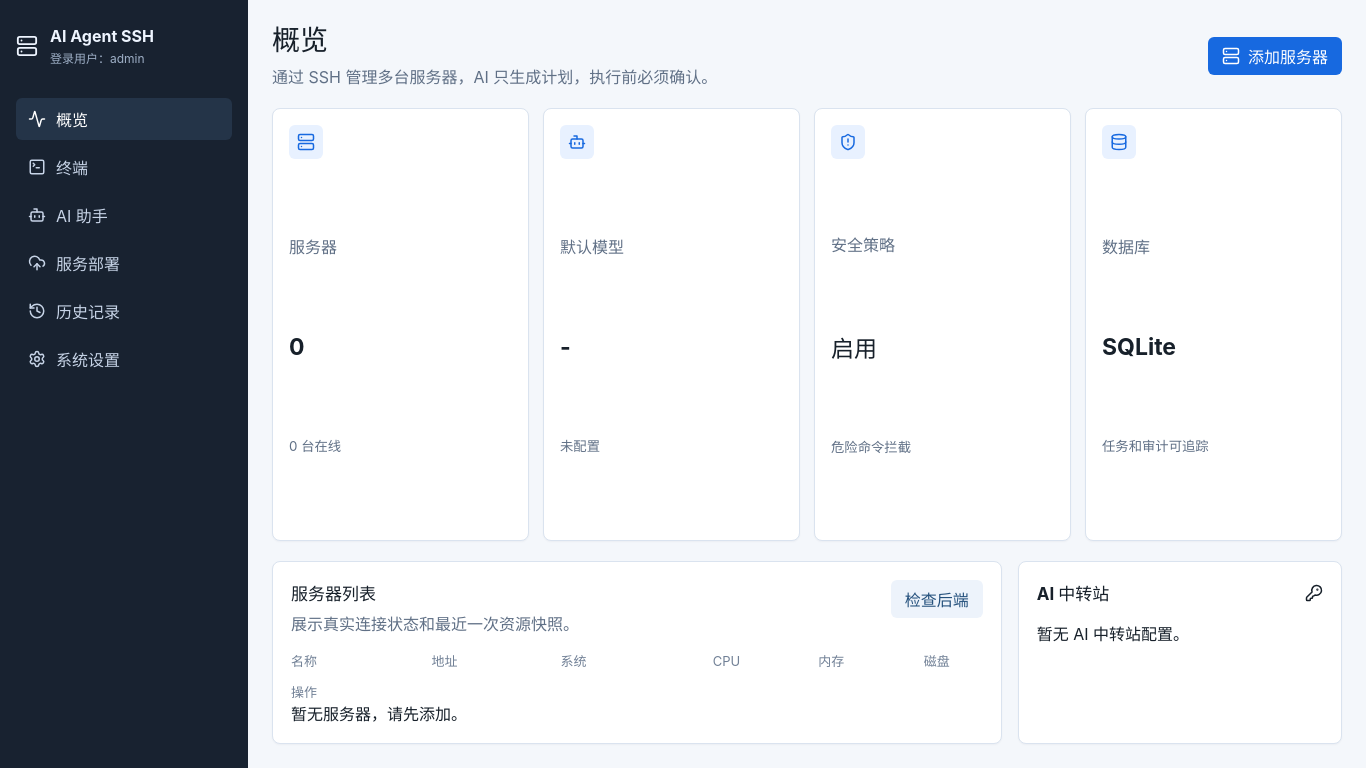
it: App interactions › creates an AI provider through the API
This screenshot has width=1366, height=768.
Click the button "系统设置". click: (124, 359)
box: 16,338 -> 232,380
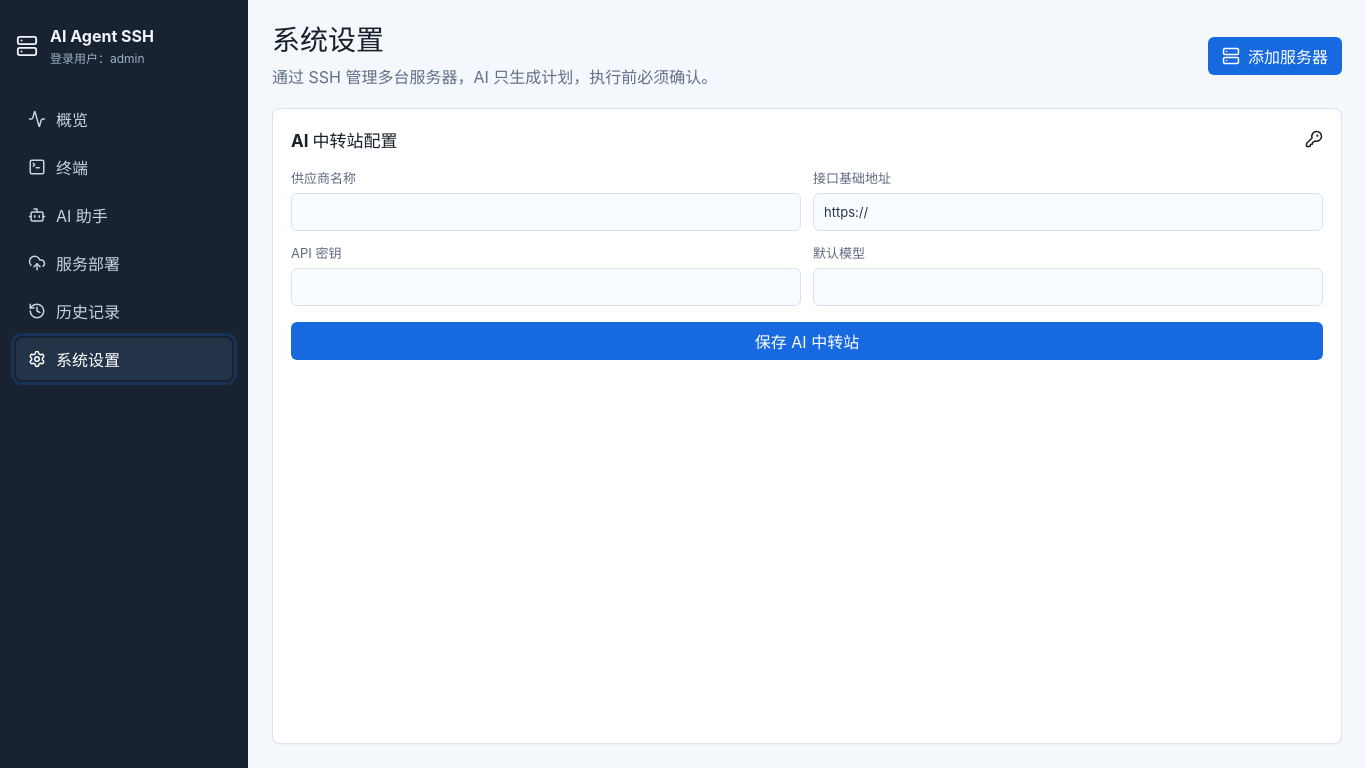
Type "Relay" into the field labelled "供应商名称". click: (546, 212)
box: 291,193 -> 801,231
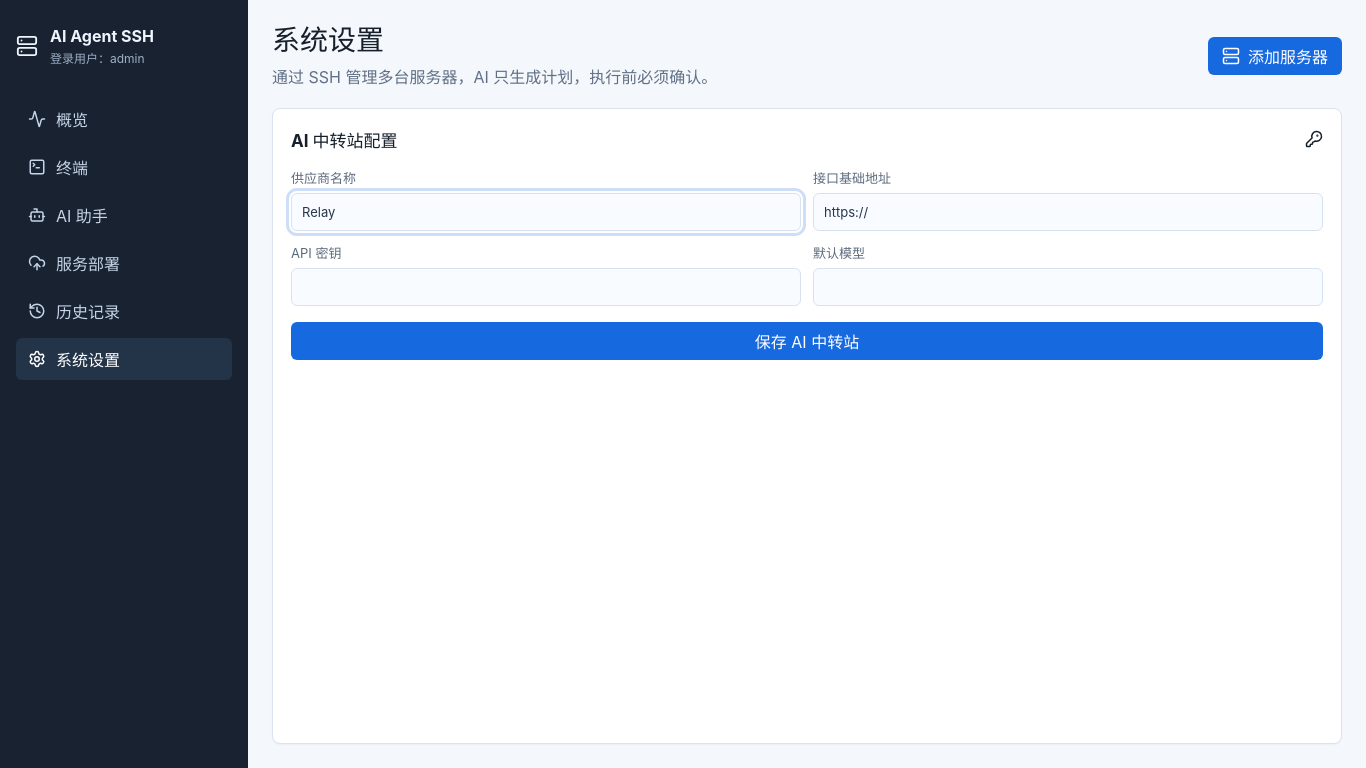
Replace the text in the field labelled "接口基础地址" with "https://relay.example/v1". click: (1068, 212)
box: 813,193 -> 1323,231
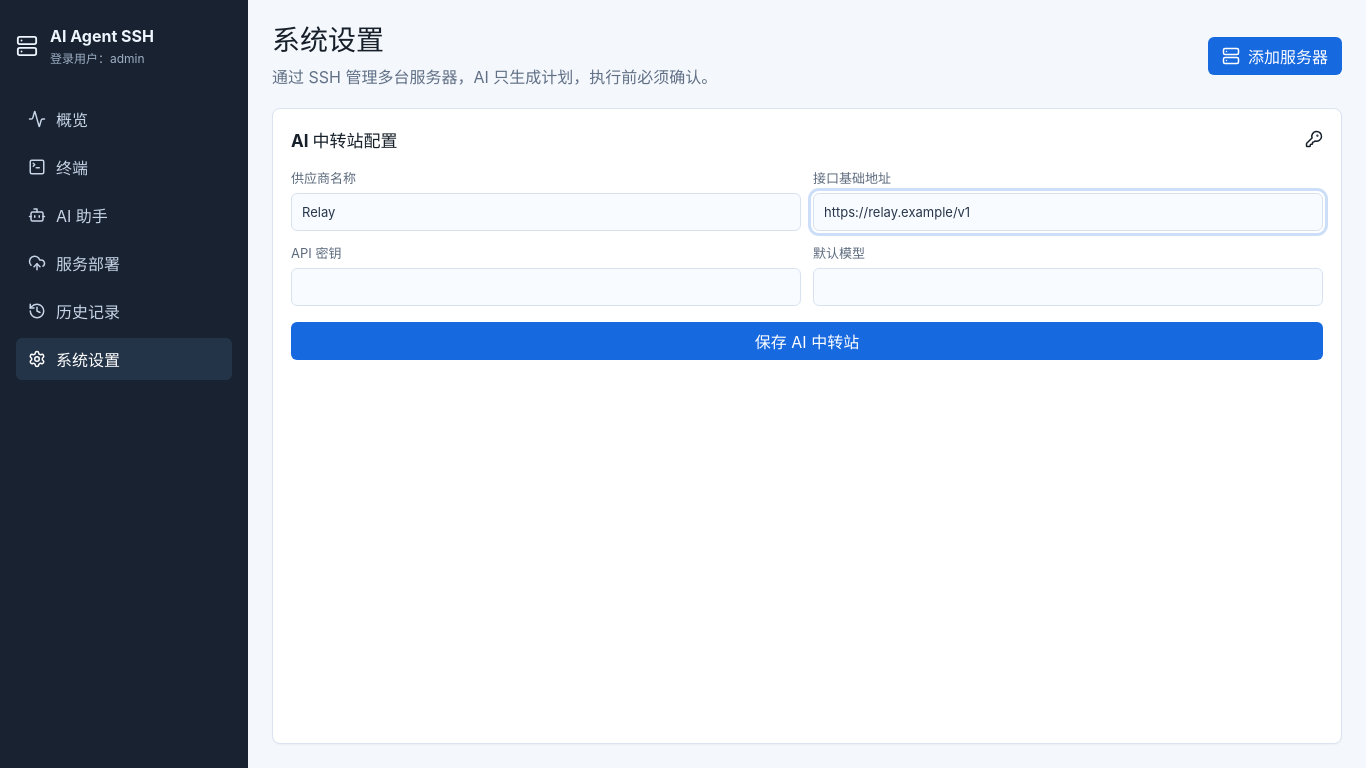
Type "sk-test" into the password field labelled "API 密钥". click: (546, 287)
box: 291,268 -> 801,306
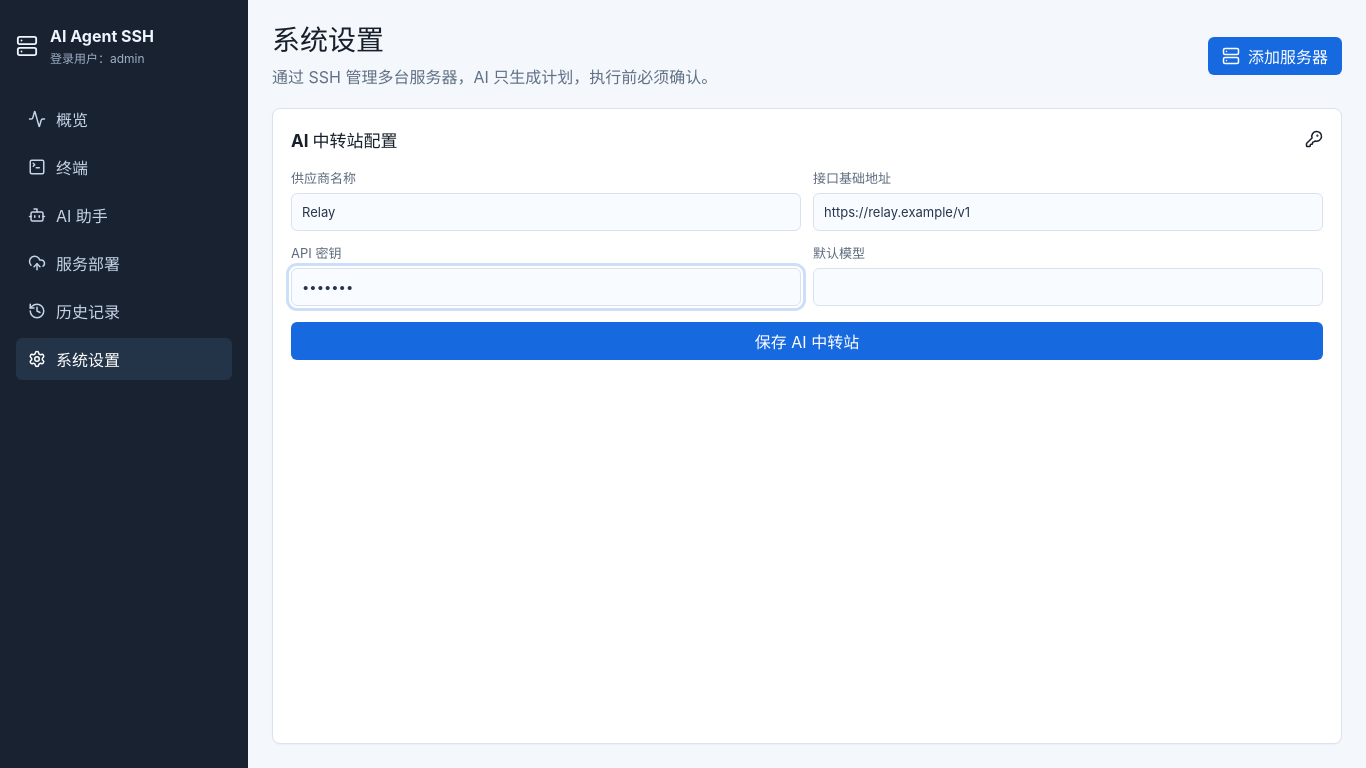
Type "deepseek-chat" into the field labelled "默认模型". click: (1068, 287)
box: 813,268 -> 1323,306
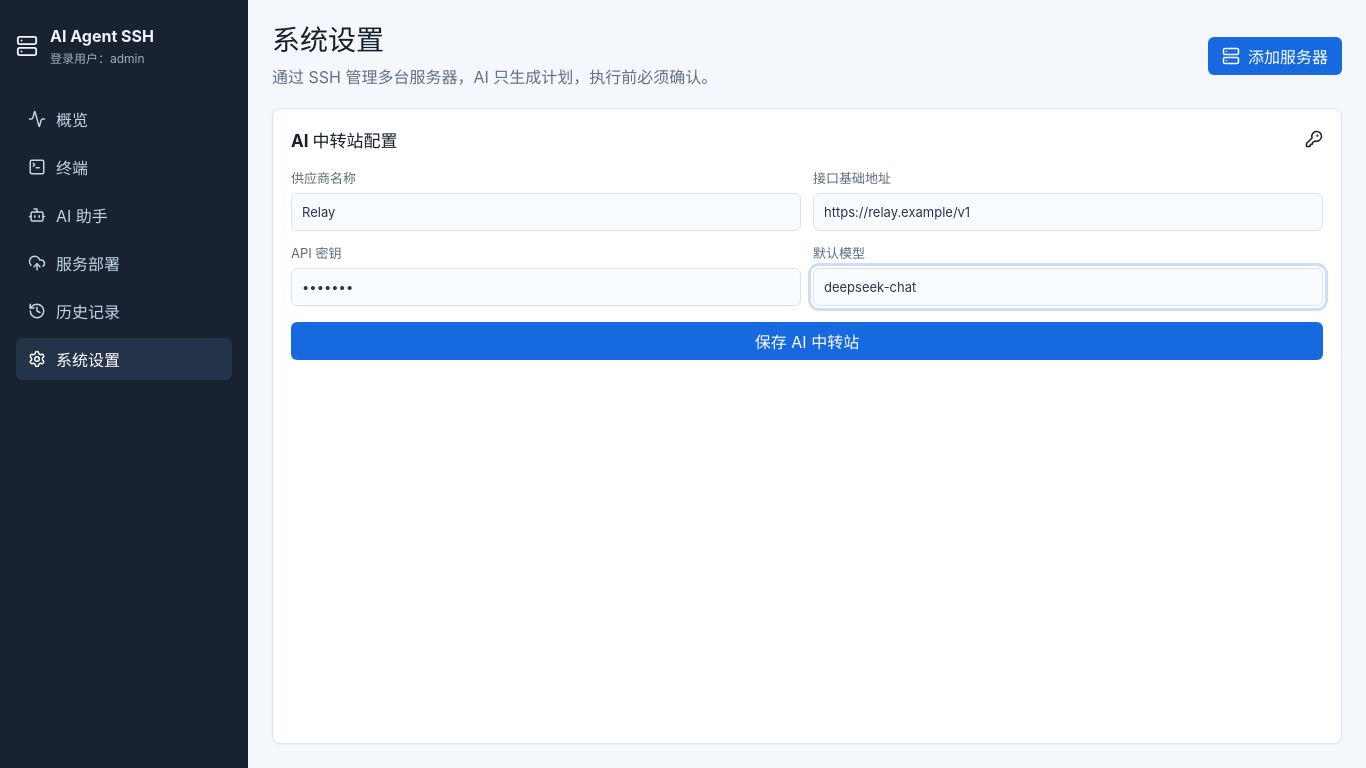
Click the button "保存 AI 中转站". click: (807, 341)
box: 291,322 -> 1323,360
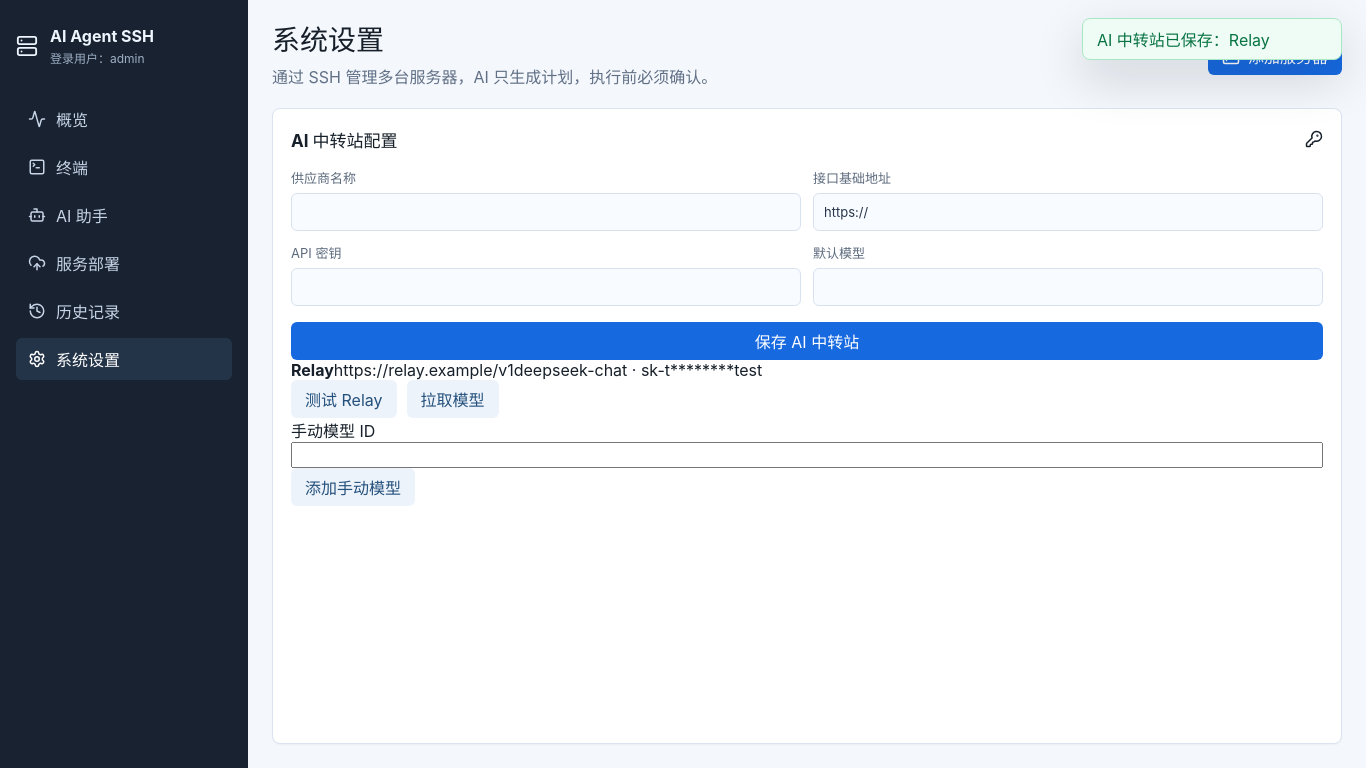
Expected: the text "AI 中转站已保存：Relay" is shown, 1082,18 -> 1342,60
